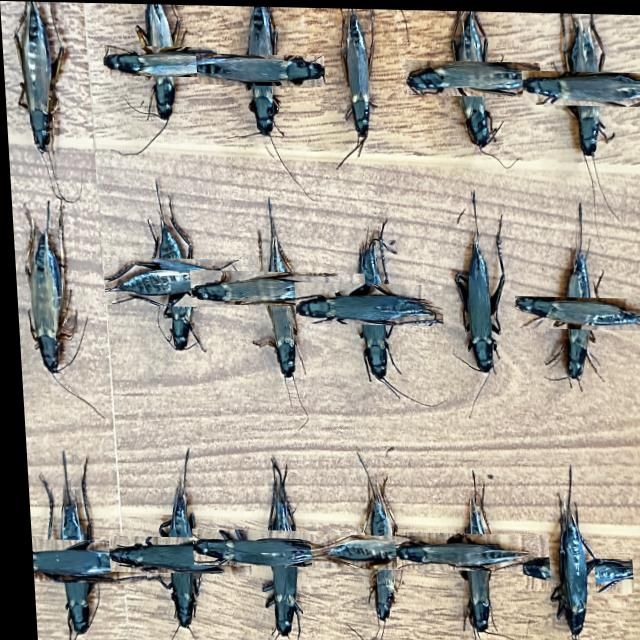egg: (101, 256, 239, 305), (185, 528, 359, 565), (291, 281, 440, 323), (544, 497, 588, 632), (390, 531, 546, 568), (187, 271, 362, 303), (24, 228, 61, 371), (102, 536, 244, 572), (26, 539, 139, 582), (305, 532, 442, 567), (20, 1, 52, 150), (404, 58, 540, 92), (569, 20, 602, 151), (511, 294, 640, 326), (196, 52, 324, 84), (520, 69, 640, 103), (515, 555, 626, 589), (462, 235, 490, 369), (343, 9, 370, 133), (102, 46, 217, 75)
